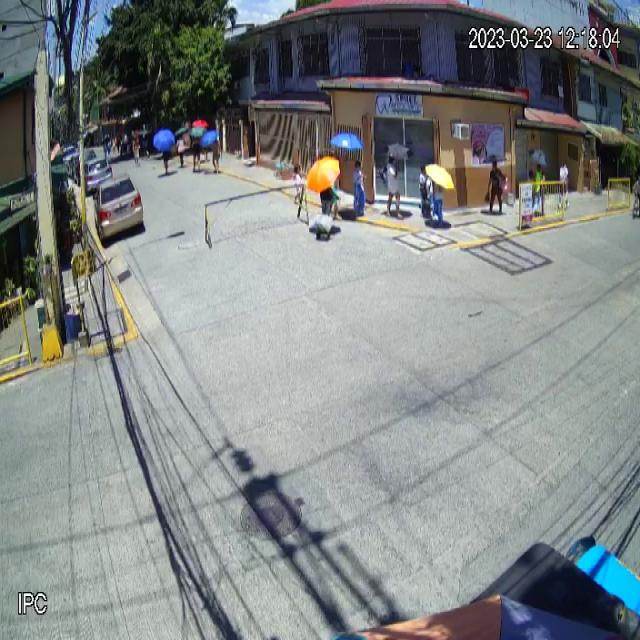Car: (95, 171, 144, 246)
